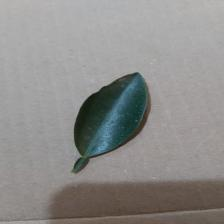healthy: (51, 68, 151, 166)
